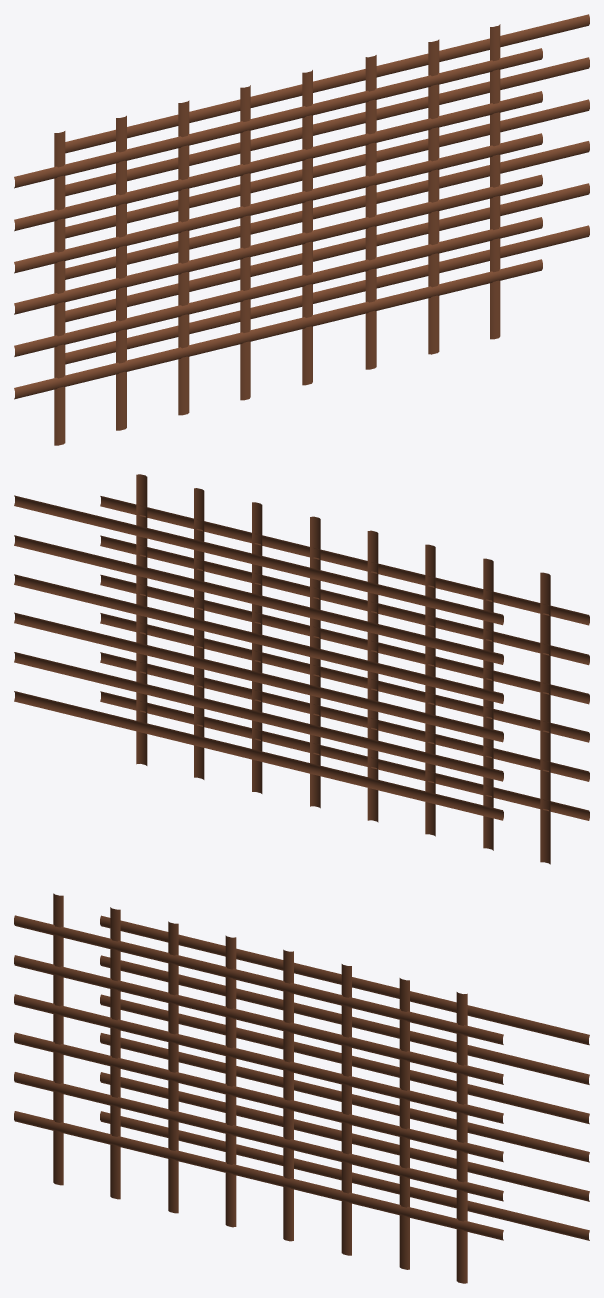
The model's file is JapanPanes.fbx.
The picture shows the model from 3 angles, top to bottom: view 1: azimuth 30°, elevation 25°; view 2: azimuth 150°, elevation 25°; view 3: azimuth 330°, elevation 25°; orthographic projection. The views are drawn at different scales.
Parts seen in each view (by area): view 1: Plane.003; view 2: Plane.003; view 3: Plane.003.
Boxes of the visible parts, x1,y1,x2,y2 form: Plane.003: [14, 14, 589, 445]; Plane.003: [14, 474, 589, 864]; Plane.003: [14, 893, 589, 1283].
Bounding box in the file's own units: 254 × 127 × 17.56.
